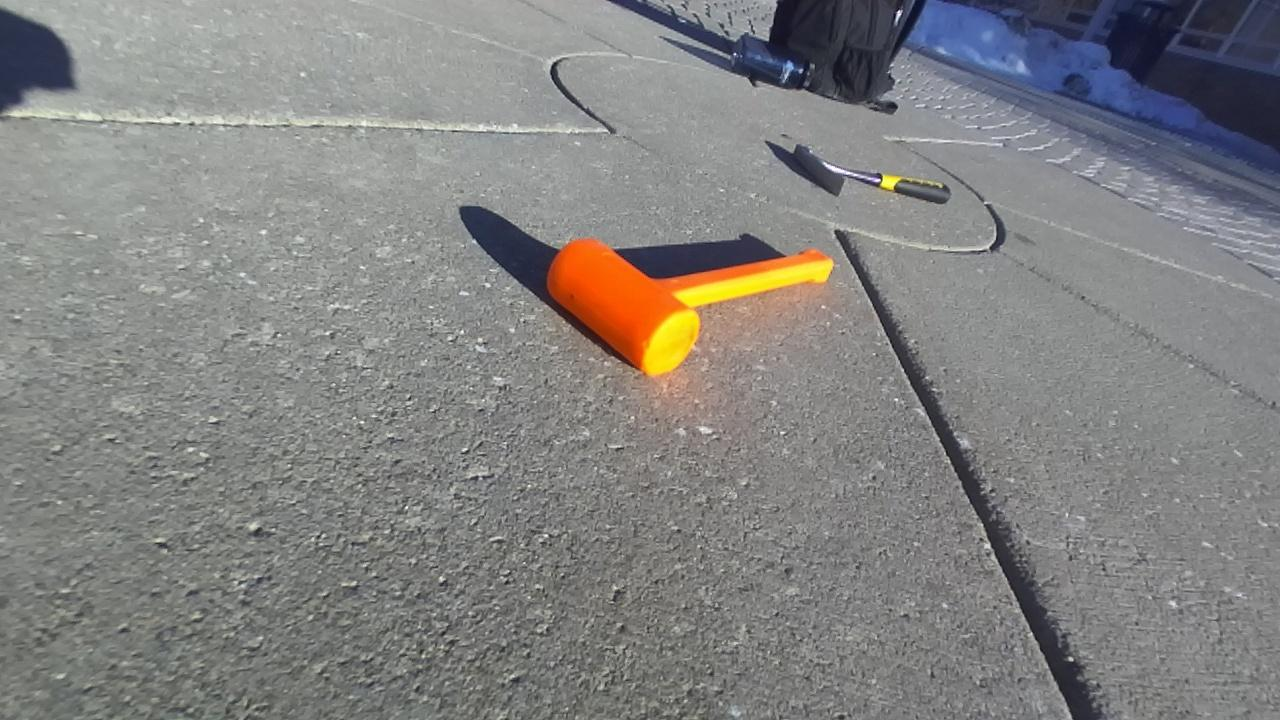bottle: (731, 34, 812, 88)
mallet: (547, 238, 832, 374)
pick: (795, 145, 950, 203)
